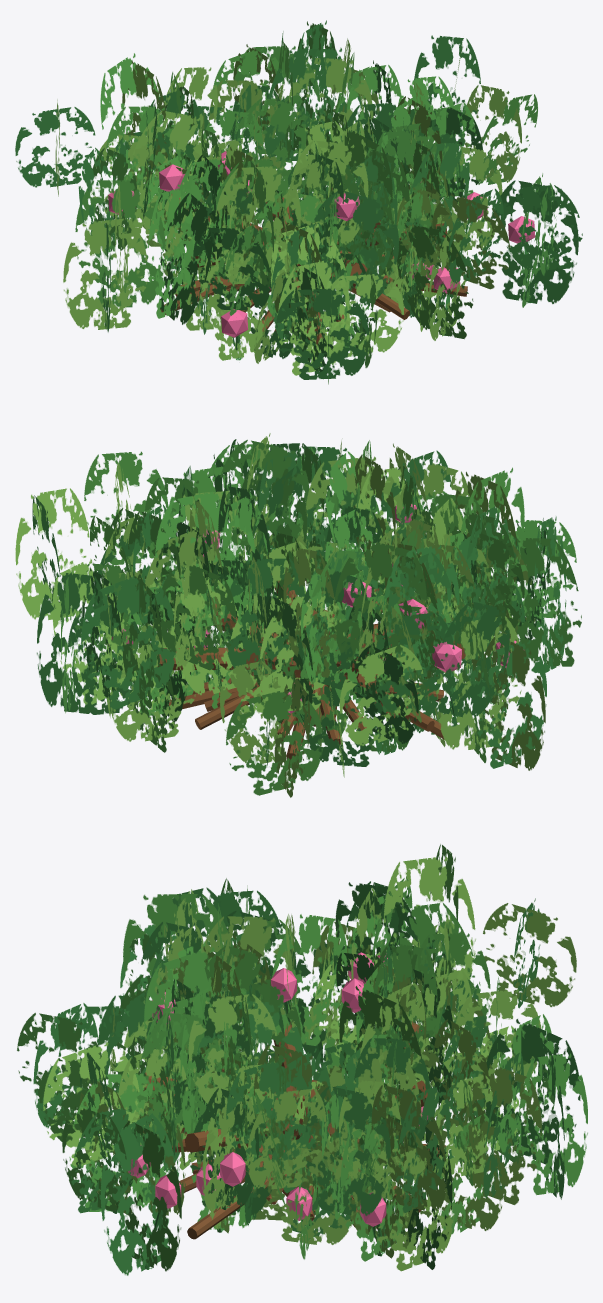
File: Shrub_GreenPinkFlowers.glb
3 views of the same model, one above another, from view 1: azimuth 30°, elevation 25°; view 2: azimuth 150°, elevation 25°; view 3: azimuth 270°, elevation 25° (orthographic). The views are drawn at different scales.
Visible parts, largest first — view 1: ShrubFlower_Static_Mesh; view 2: ShrubFlower_Static_Mesh; view 3: ShrubFlower_Static_Mesh.
Part boxes in pixels (box(x1,y1,x2,y2)): ShrubFlower_Static_Mesh: box(15, 20, 582, 384); ShrubFlower_Static_Mesh: box(15, 433, 581, 797); ShrubFlower_Static_Mesh: box(17, 844, 587, 1275).
Size of the model in its own units: 3.04 by 1.54 by 2.84.
Materials: 5 (3 with a texture image).
